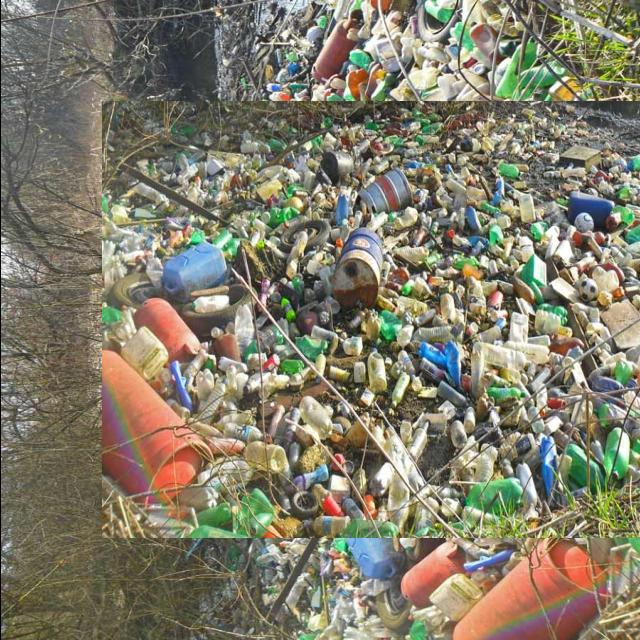garbage: (151, 51, 640, 590)
